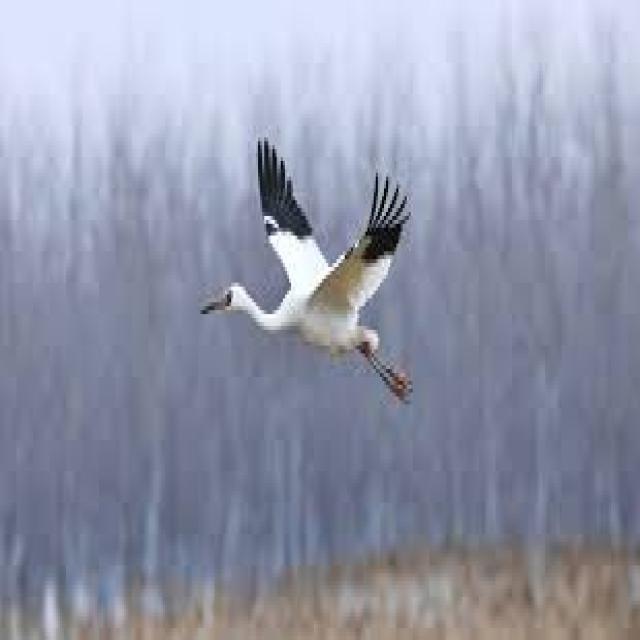bird: (194, 132, 436, 408)
